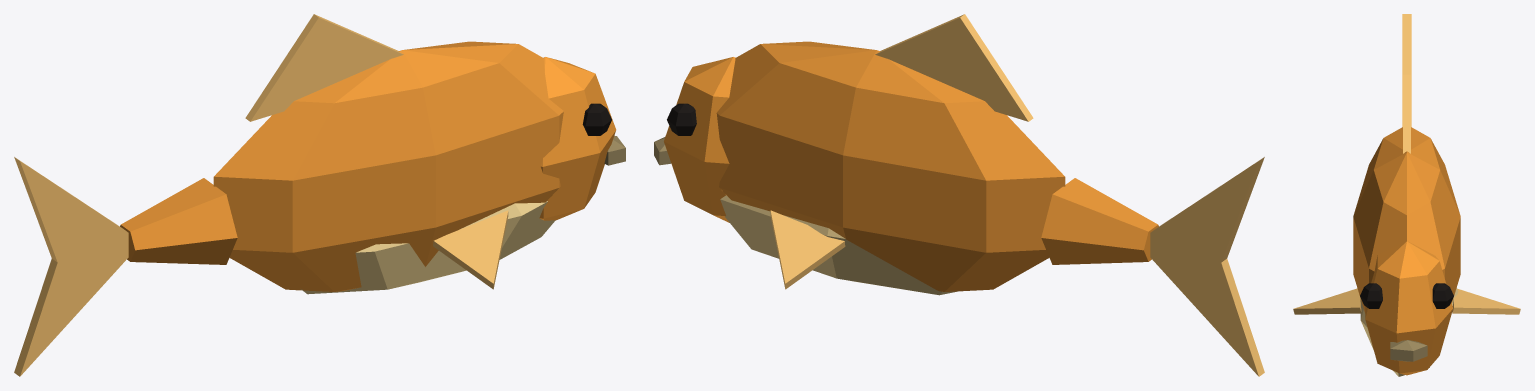
File: fish_gold.glb
3 renders of one model, left to right at view 1: azimuth 30°, elevation 25°; view 2: azimuth 150°, elevation 25°; view 3: azimuth 270°, elevation 25°, orthographic. The views are drawn at different scales.
Visible parts, largest first — view 1: body, tail; view 2: body, tail; view 3: body, tail.
Boxes of the visible parts, <box> form: body: <box>213,14,625,294</box>; tail: <box>14,157,237,376</box>; body: <box>654,14,1065,295</box>; tail: <box>1041,157,1264,376</box>; body: <box>1293,74,1520,376</box>; tail: <box>1402,14,1411,126</box>.
Bounding box in the file's own units: 0.704 × 0.325 × 0.2881.
